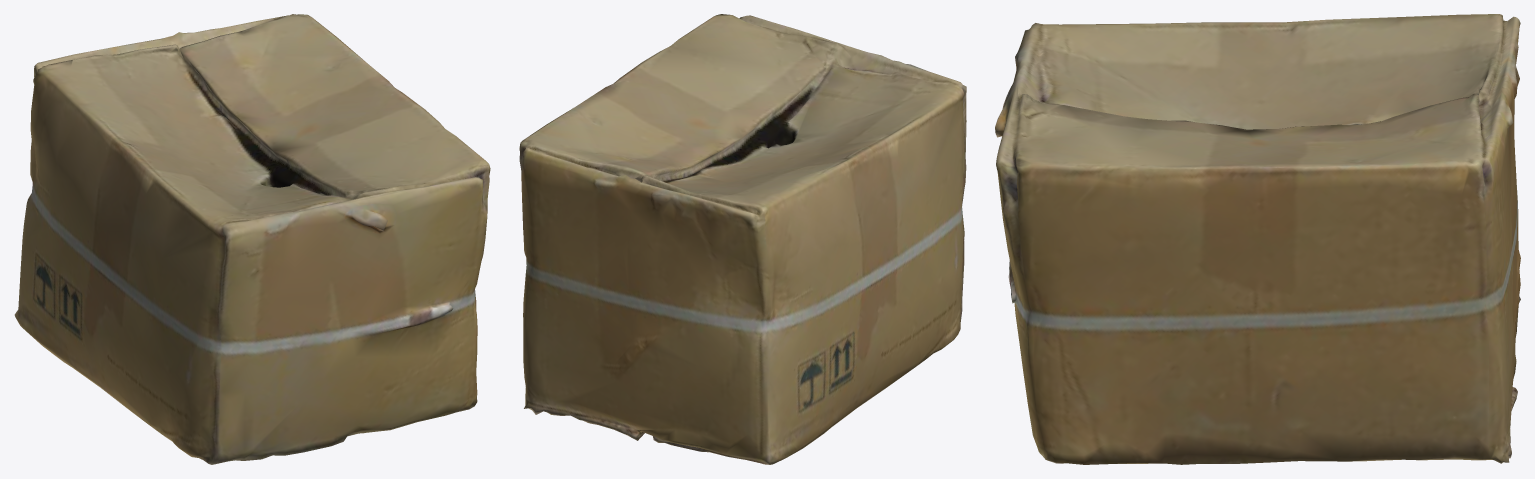
File: cardboard_box_01.glb
3 renders of one model, left to right at view 1: azimuth 30°, elevation 25°; view 2: azimuth 150°, elevation 25°; view 3: azimuth 270°, elevation 25°, orthographic. The views are drawn at different scales.
Visible parts, largest first — view 1: cardboard_box_01; view 2: cardboard_box_01; view 3: cardboard_box_01.
Boxes of the visible parts, x1,y1,x2,y2 form: cardboard_box_01: (14, 14, 490, 464); cardboard_box_01: (519, 14, 966, 464); cardboard_box_01: (995, 14, 1520, 464).
Bounding box in the file's own units: 0.3868 × 0.3418 × 0.5159.
Materials: 1 (1 with a texture image).
